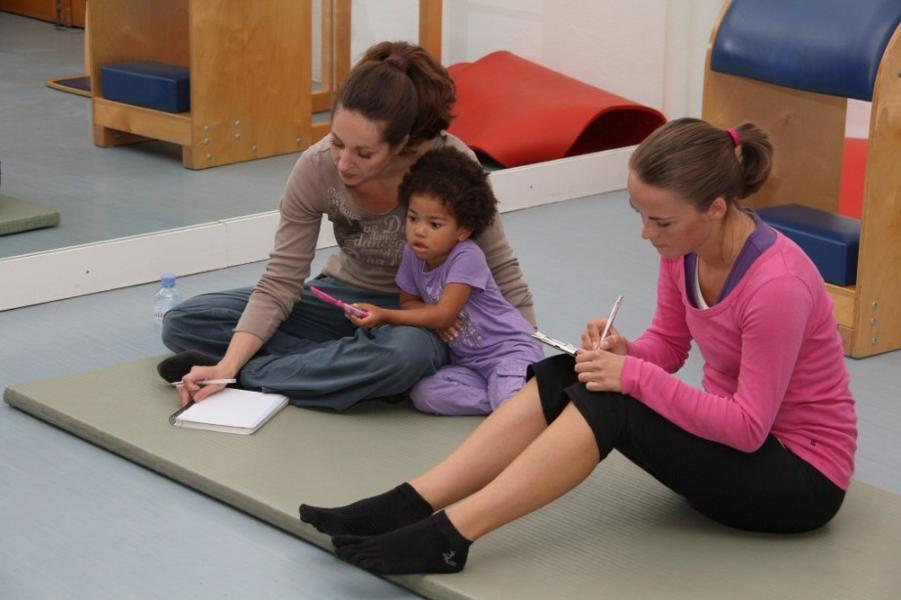person: (300, 117, 861, 579)
